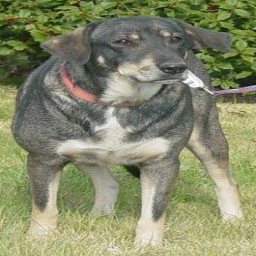dog: (7, 14, 245, 248)
